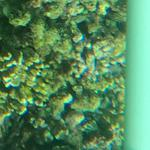dead: (1, 2, 145, 148)
